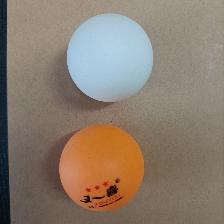WhiteBall: (66, 12, 153, 102)
YellowBall: (58, 124, 144, 211)
